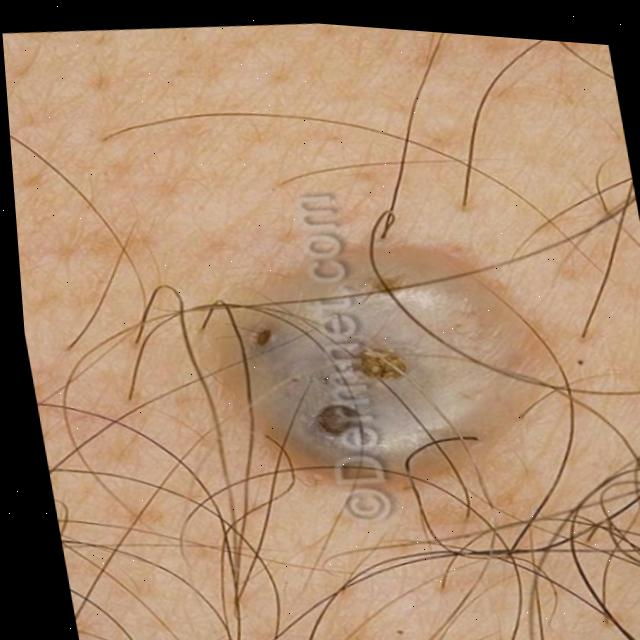Eczema: (236, 246, 489, 471)
